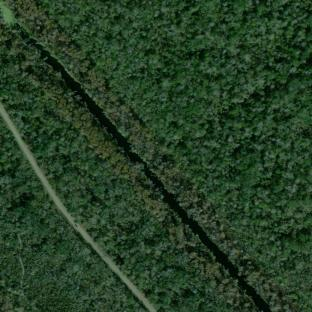Floresta: (6, 0, 312, 312), (0, 23, 256, 312), (0, 122, 144, 312)
